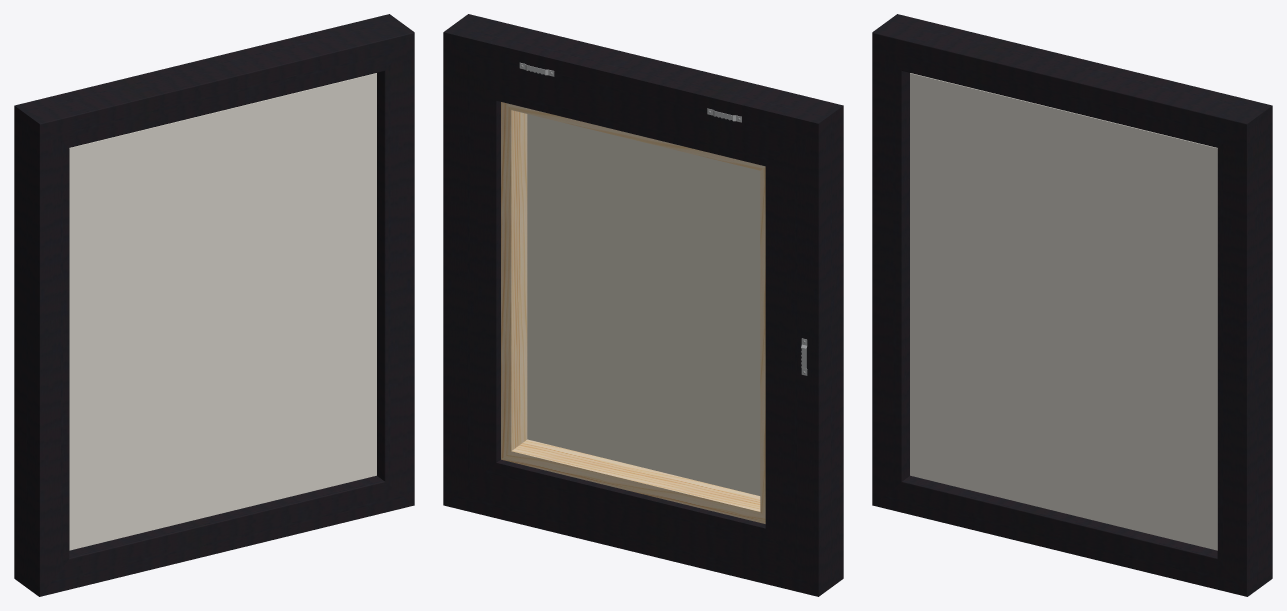
The model's file is decoded-from-delivery.glb.
3 renders of one model, left to right at view 1: azimuth 30°, elevation 25°; view 2: azimuth 150°, elevation 25°; view 3: azimuth 330°, elevation 25°, orthographic.
Parts seen in each view (by area): view 1: Canvas artwork front, Tray approved profile 0; view 2: Tray approved profile 0, Canvas linen reverse, Stretcher top, Sawtooth hanger 0; view 3: Canvas artwork front, Tray approved profile 0.
Boxes of the visible parts, x1,y1,x2,y2 form: Canvas artwork front: (69, 73, 376, 550); Tray approved profile 0: (14, 14, 414, 596); Tray approved profile 0: (443, 14, 843, 596); Canvas linen reverse: (527, 114, 760, 495); Stretcher top: (501, 102, 765, 523); Sawtooth hanger 0: (519, 62, 807, 375); Canvas artwork front: (910, 73, 1217, 550); Tray approved profile 0: (872, 14, 1272, 596).
Bounding box in the file's own units: 0.488 × 0.588 × 0.0594.
Materials: 7 (3 with a texture image).
